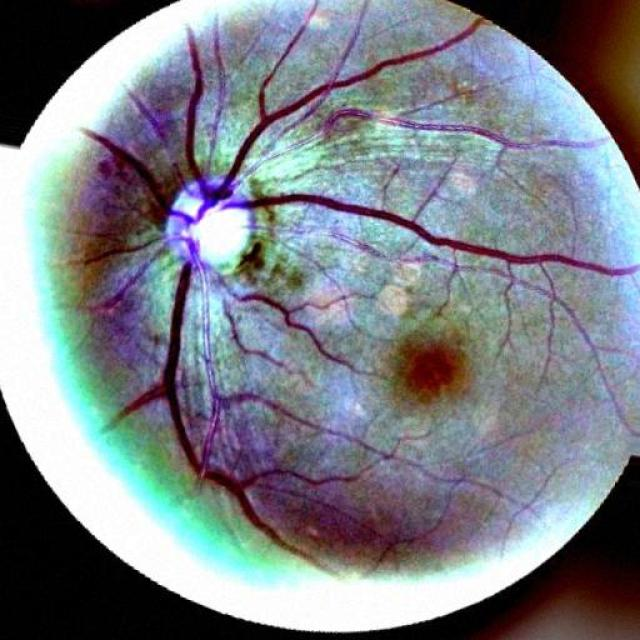Macula: (394, 341, 468, 404)
Nerves: (181, 8, 484, 224), (121, 261, 286, 546), (222, 194, 636, 276), (245, 194, 635, 276), (90, 132, 161, 204), (184, 236, 202, 272)
Optic Disk: (181, 204, 255, 274), (179, 192, 199, 212)
